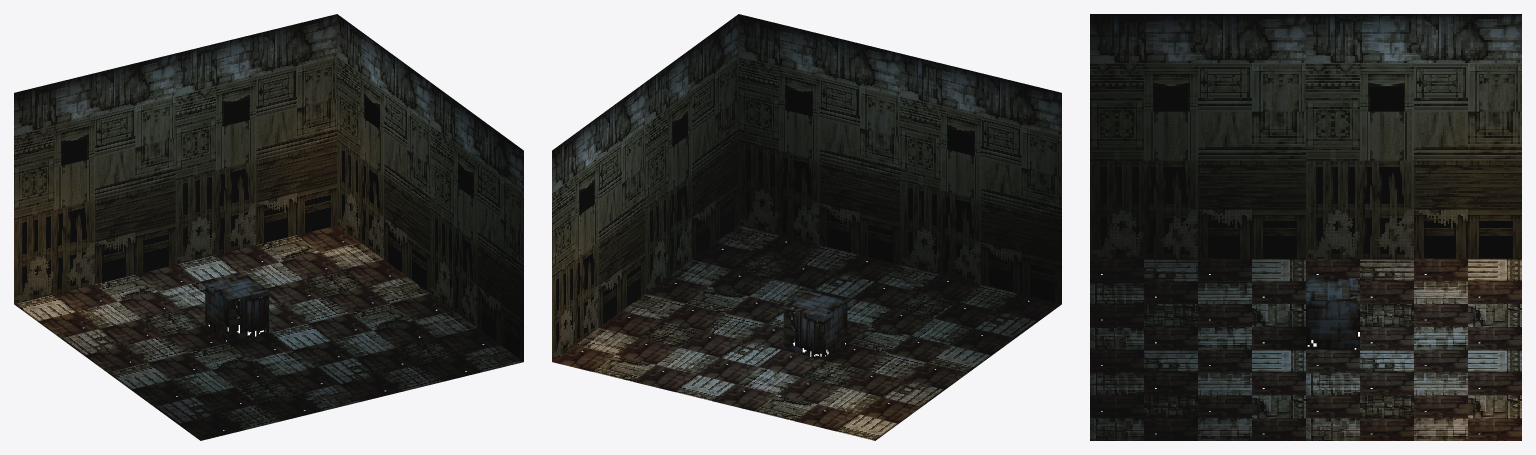
Rendered from MAP056.gltf.
The picture shows the model from 3 angles, left to right: view 1: azimuth 30°, elevation 25°; view 2: azimuth 150°, elevation 25°; view 3: azimuth 270°, elevation 25°; orthographic projection. The views are drawn at different scales.
Bounding box in the file's own units: 102 × 64 × 102.
Materials: 5 (5 with a texture image).
